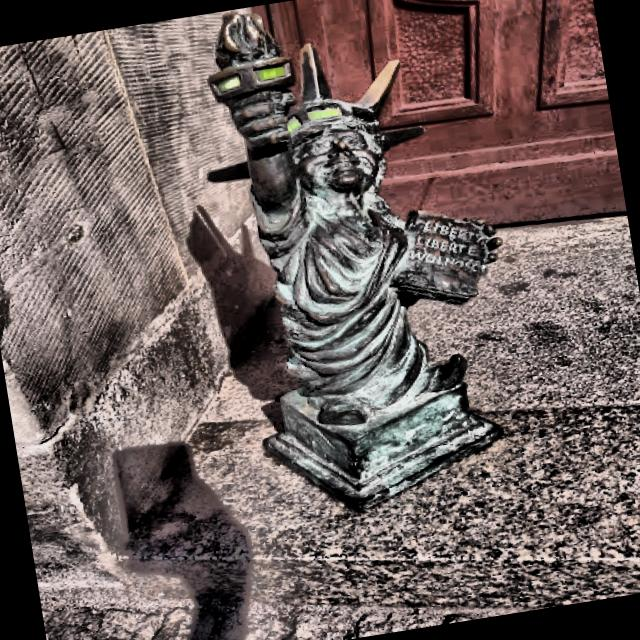LadyWolnosc: (210, 14, 499, 508)
